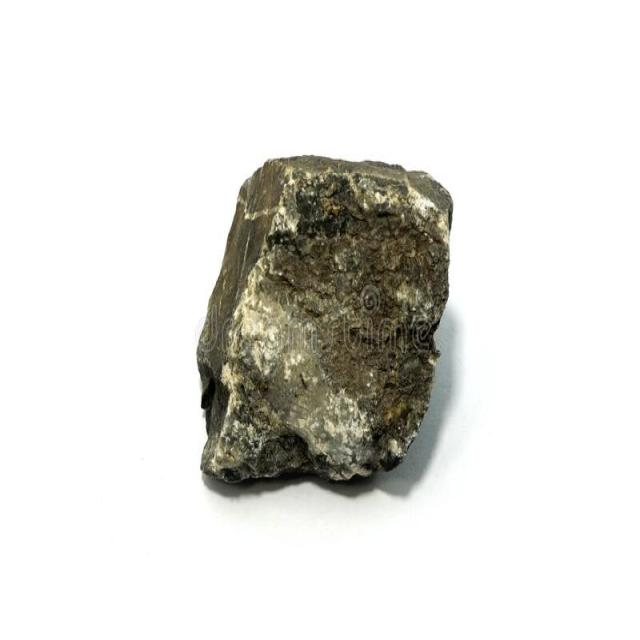Sedimentary: (186, 146, 479, 494)
